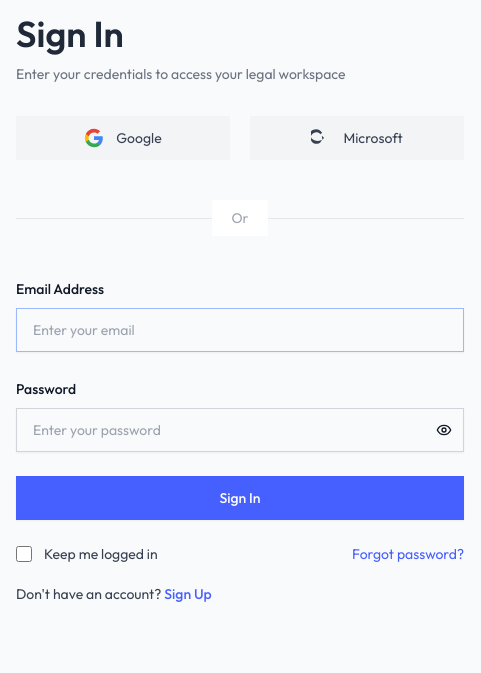
Test: LoginPage › Form Validation › should validate email format
Type "invalid-email" into the field labelled "Email Address" at (240, 330), box [16, 308, 464, 352]
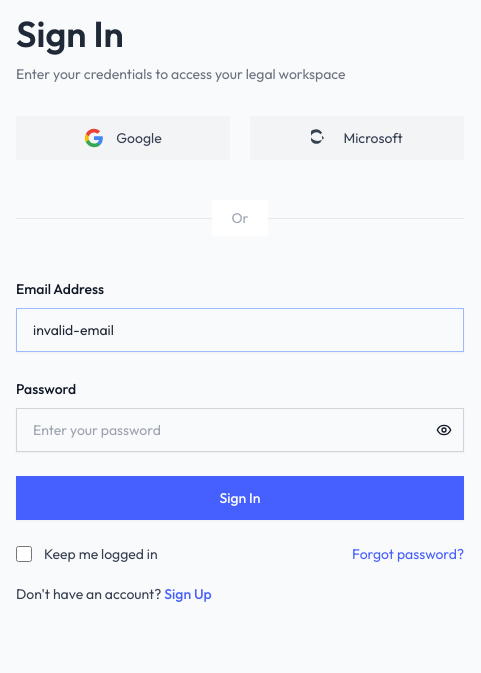
Click the button "Sign In" at (240, 498), box [16, 476, 464, 520]
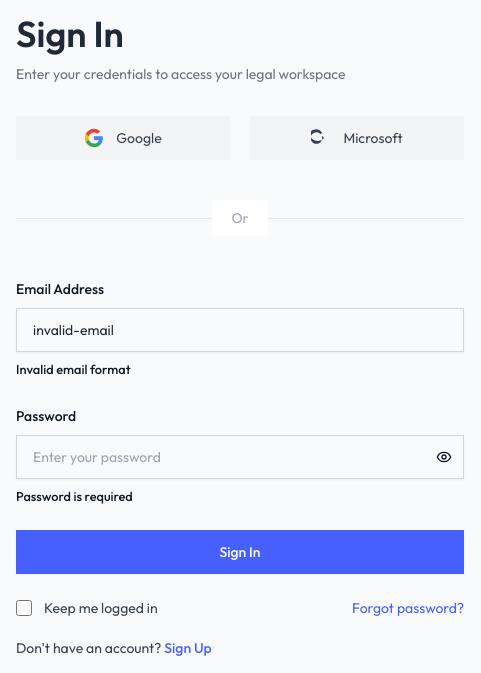
expect the text "Invalid email format" is shown: met, box [16, 361, 130, 377]
